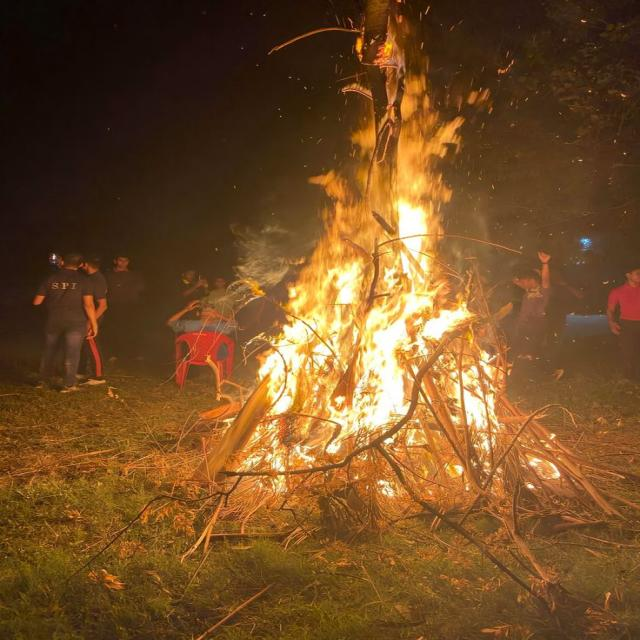fire: (225, 0, 503, 496), (525, 450, 562, 484)
